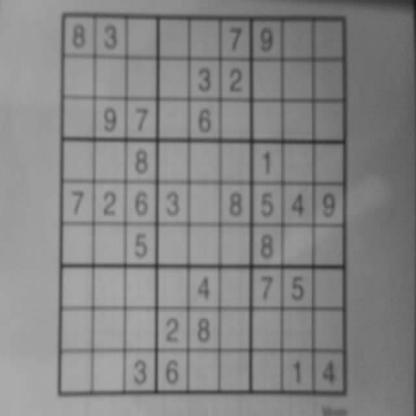sudoku: (53, 9, 352, 402)
